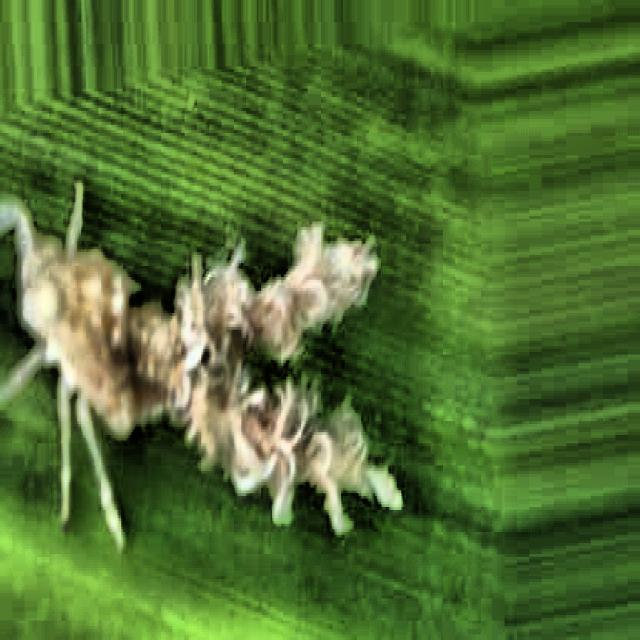Pyrilla-perpusilla: (4, 89, 417, 564)
